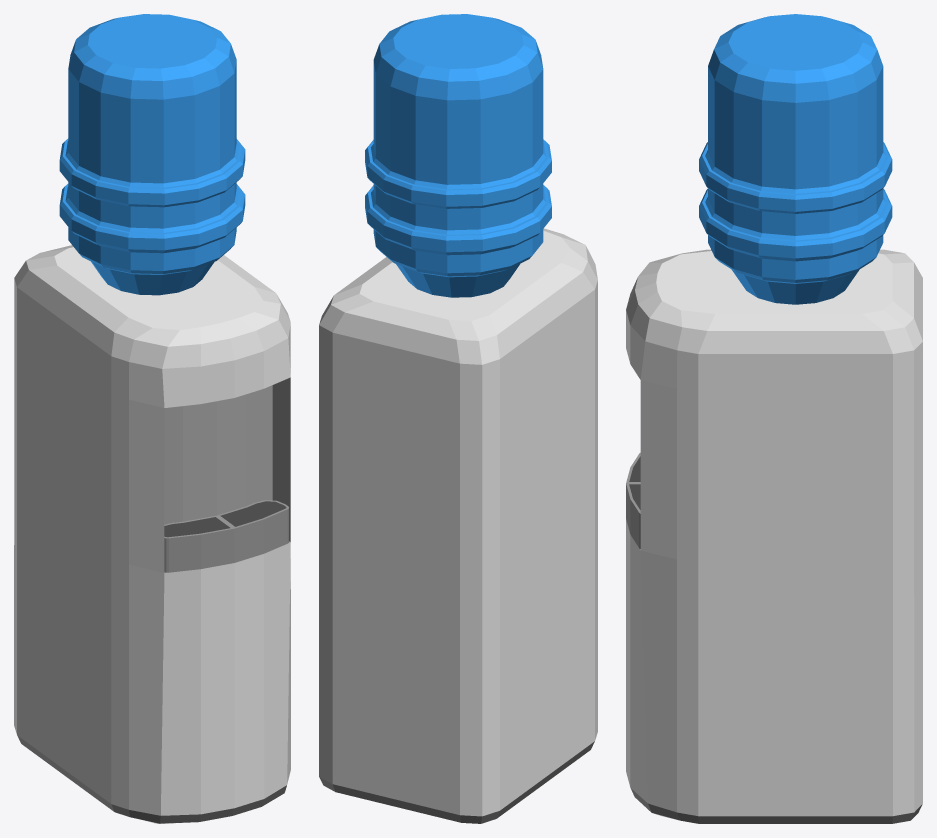
Rendered from Prop_WaterDispenser.fbx.
3 renders of one model, left to right at view 1: azimuth 30°, elevation 25°; view 2: azimuth 150°, elevation 25°; view 3: azimuth 270°, elevation 25°, orthographic. The views are drawn at different scales.
Visible parts, largest first — view 1: Prop_WaterDispenser; view 2: Prop_WaterDispenser; view 3: Prop_WaterDispenser.
Part boxes in pixels (x1=…): Prop_WaterDispenser: x1=14, y1=14, x2=290, y2=823; Prop_WaterDispenser: x1=319, y1=14, x2=597, y2=823; Prop_WaterDispenser: x1=626, y1=14, x2=922, y2=823.
Bounding box in the file's own units: 51.85 × 202 × 73.17.
